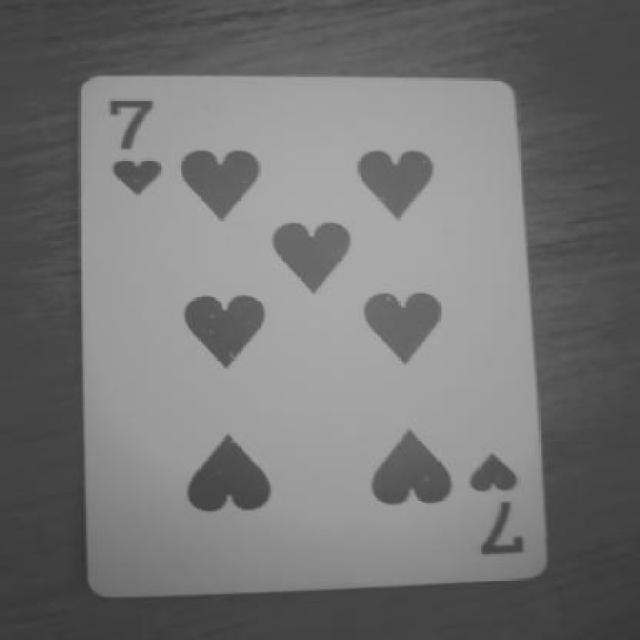7H: (93, 83, 189, 211), (461, 435, 536, 567)
